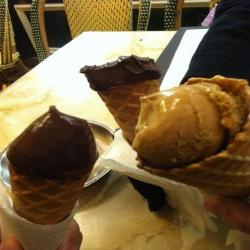icecream: (129, 67, 250, 199), (7, 100, 101, 231), (82, 51, 169, 158)
